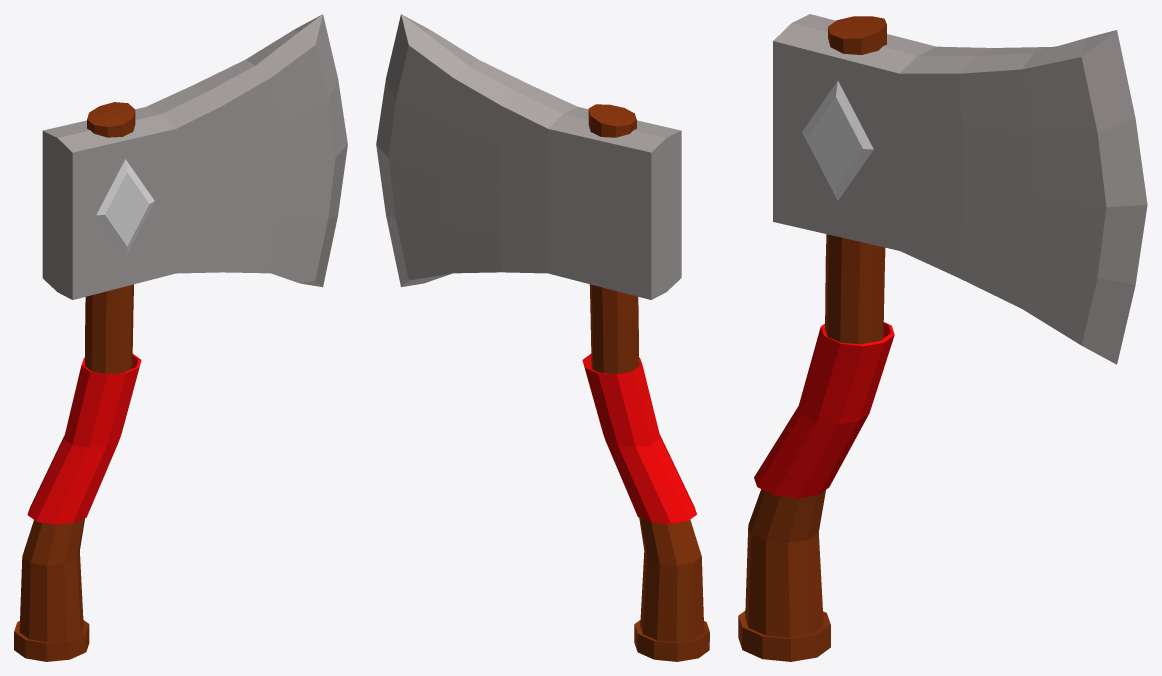
File: Machado.fbx
The picture shows the model from 3 angles, left to right: view 1: azimuth 30°, elevation 25°; view 2: azimuth 150°, elevation 25°; view 3: azimuth 330°, elevation 25°; orthographic projection. The views are drawn at different scales.
Visible parts, largest first — view 1: Machado; view 2: Machado; view 3: Machado.
Boxes of the visible parts, x1=… form: Machado: x1=14, y1=14, x2=347, y2=661; Machado: x1=376, y1=14, x2=709, y2=661; Machado: x1=738, y1=14, x2=1147, y2=661.
Size of the model in its own units: 70.38 by 116 by 13.45.
3 materials, 2 textured.
